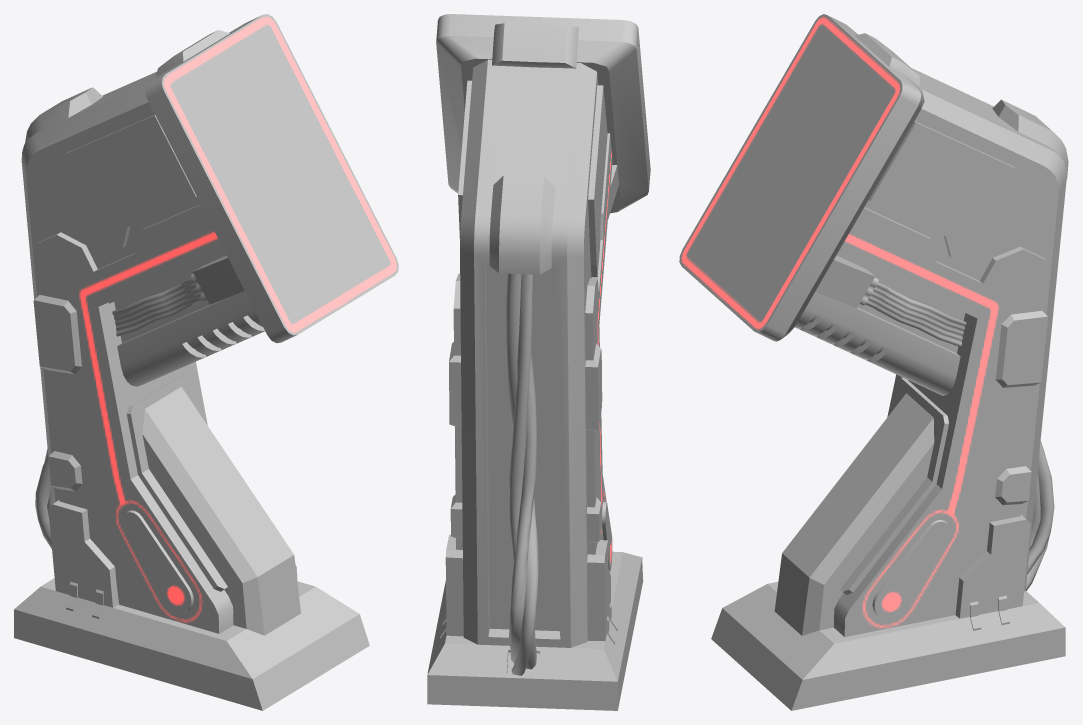
The model's file is Terminal - Copy.fbx.
The picture shows the model from 3 angles, left to right: view 1: azimuth 30°, elevation 25°; view 2: azimuth 150°, elevation 25°; view 3: azimuth 270°, elevation 25°; orthographic projection.
Parts seen in each view (by area): view 1: LP1.008; view 2: LP1.008; view 3: LP1.008.
Part boxes in pixels (x1=…): LP1.008: x1=14, y1=14, x2=398, y2=710; LP1.008: x1=427, y1=14, x2=650, y2=710; LP1.008: x1=679, y1=14, x2=1068, y2=710.
Size of the model in its own units: 68.51 by 144 by 84.21.
